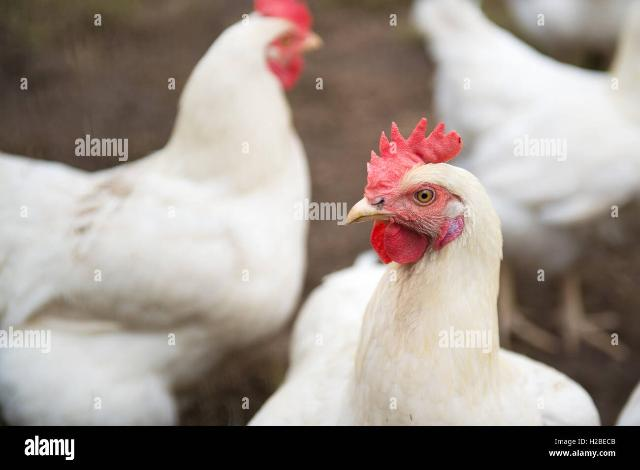Chicken: (2, 0, 327, 426), (248, 115, 600, 426)
